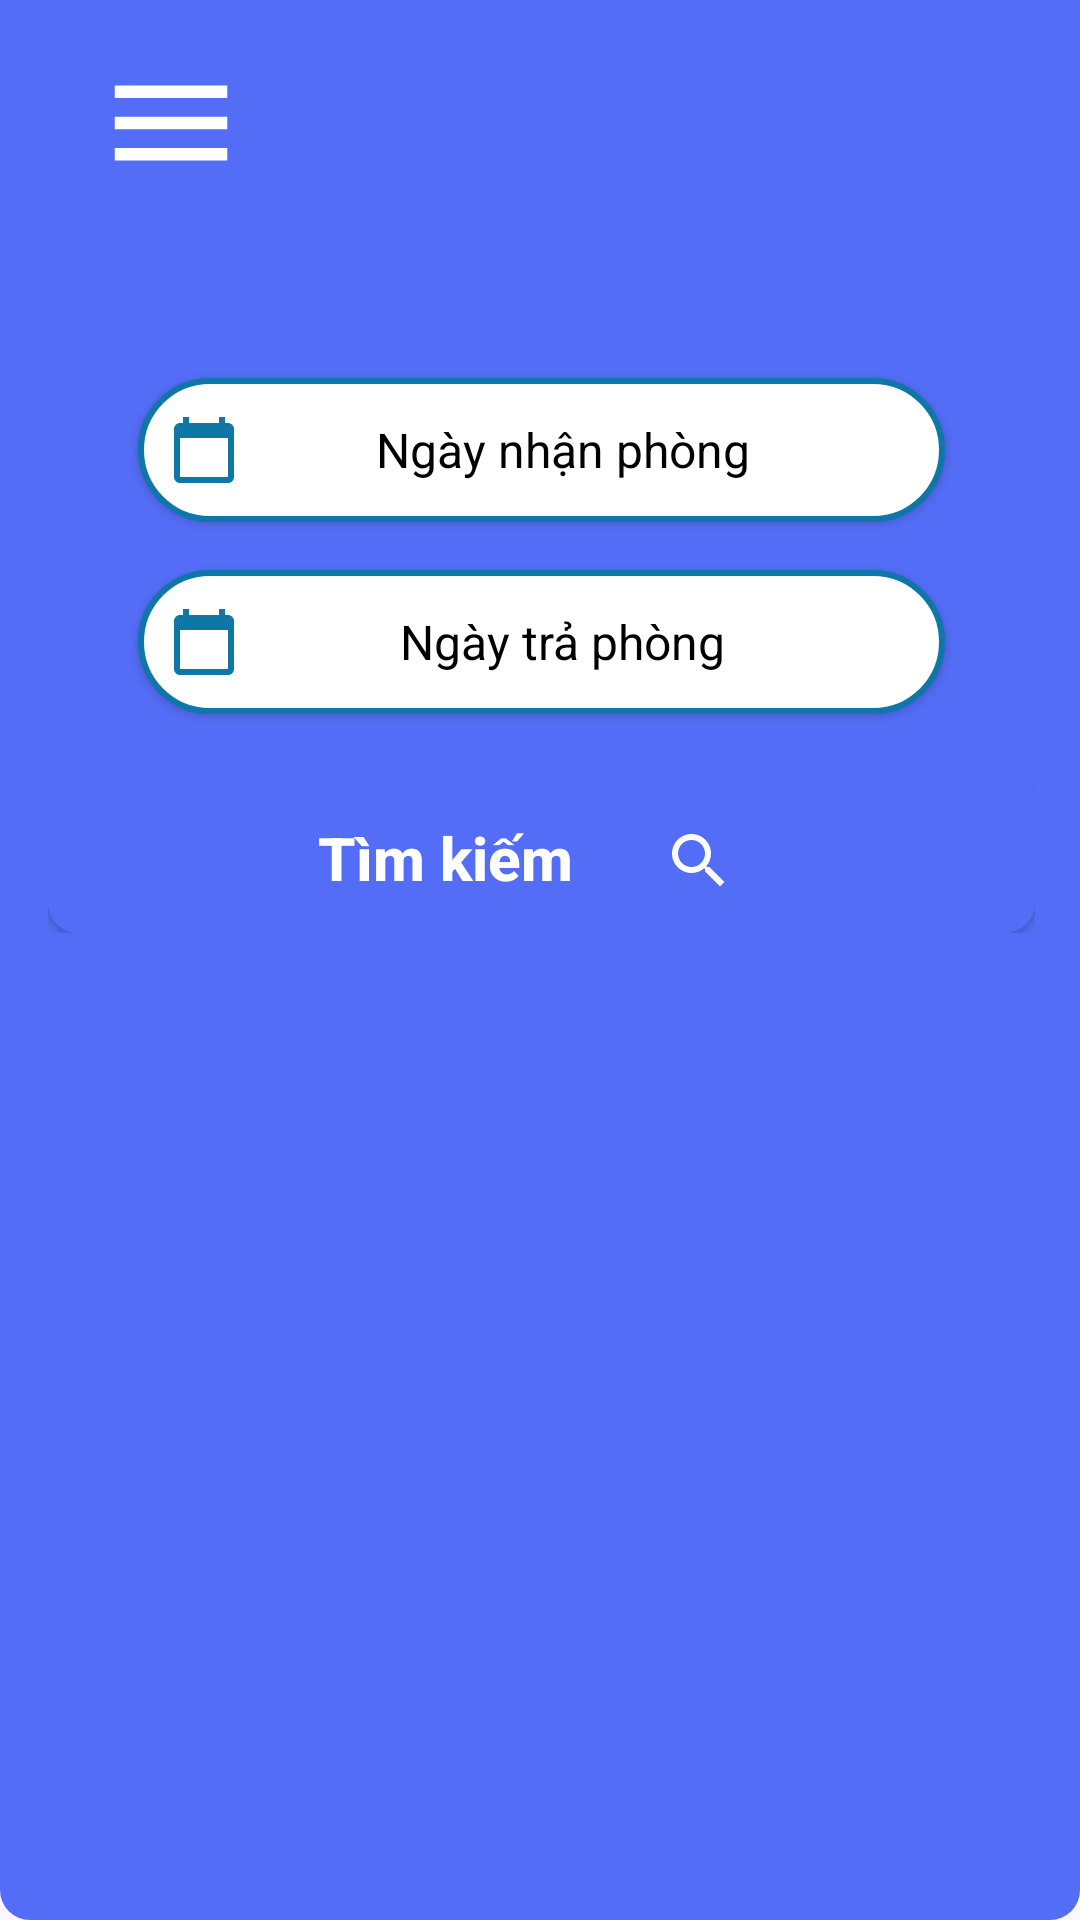

Icon click points for this 1080 x 1920 phone screenshot, format point (x, y):
menu: point (171, 123)
